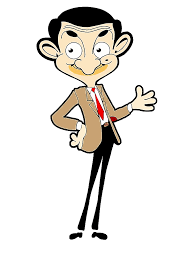mrbean: (28, 7, 159, 241)
